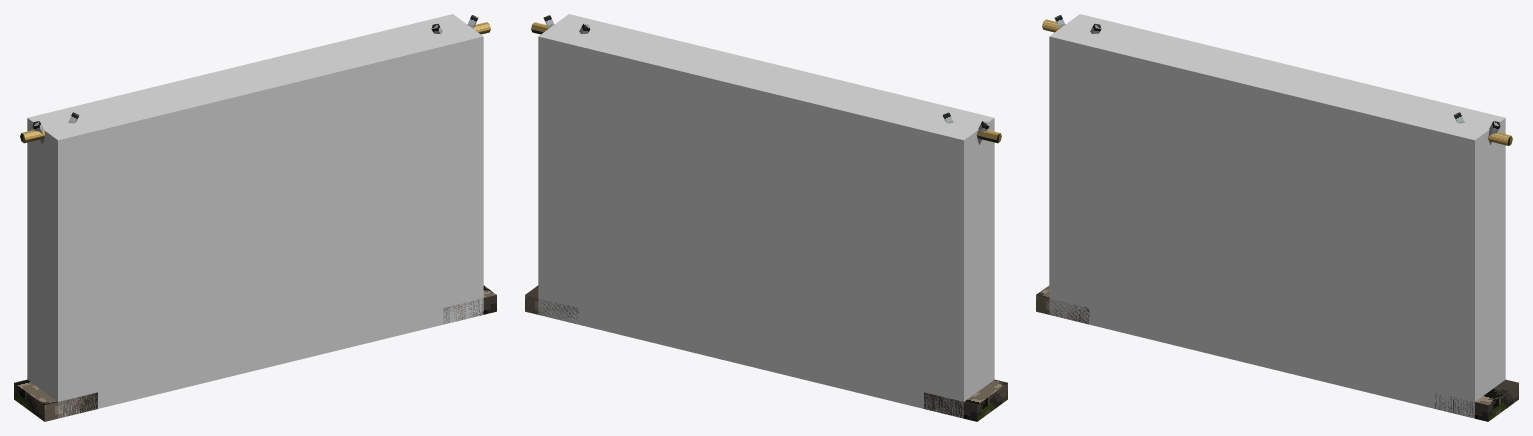
The model's file is JP_Prop_LaundryPole_A.glb.
The picture shows the model from 3 angles, left to right: view 1: azimuth 30°, elevation 25°; view 2: azimuth 150°, elevation 25°; view 3: azimuth 330°, elevation 25°; orthographic projection.
Visible parts, largest first — view 1: COL_JP_Prop_LaundryPole_A, JP_Prop_LaundryPole_A; view 2: COL_JP_Prop_LaundryPole_A, JP_Prop_LaundryPole_A; view 3: COL_JP_Prop_LaundryPole_A, JP_Prop_LaundryPole_A.
Part boxes in pixels (<box>): COL_JP_Prop_LaundryPole_A: <box>27,14,483,418</box>; JP_Prop_LaundryPole_A: <box>14,15,496,421</box>; COL_JP_Prop_LaundryPole_A: <box>538,14,994,418</box>; JP_Prop_LaundryPole_A: <box>525,15,1007,421</box>; COL_JP_Prop_LaundryPole_A: <box>1049,14,1505,418</box>; JP_Prop_LaundryPole_A: <box>1036,15,1518,421</box>.
Bounding box in the file's own units: 3.5 × 2.06 × 0.4.
3 materials, 3 textured.
